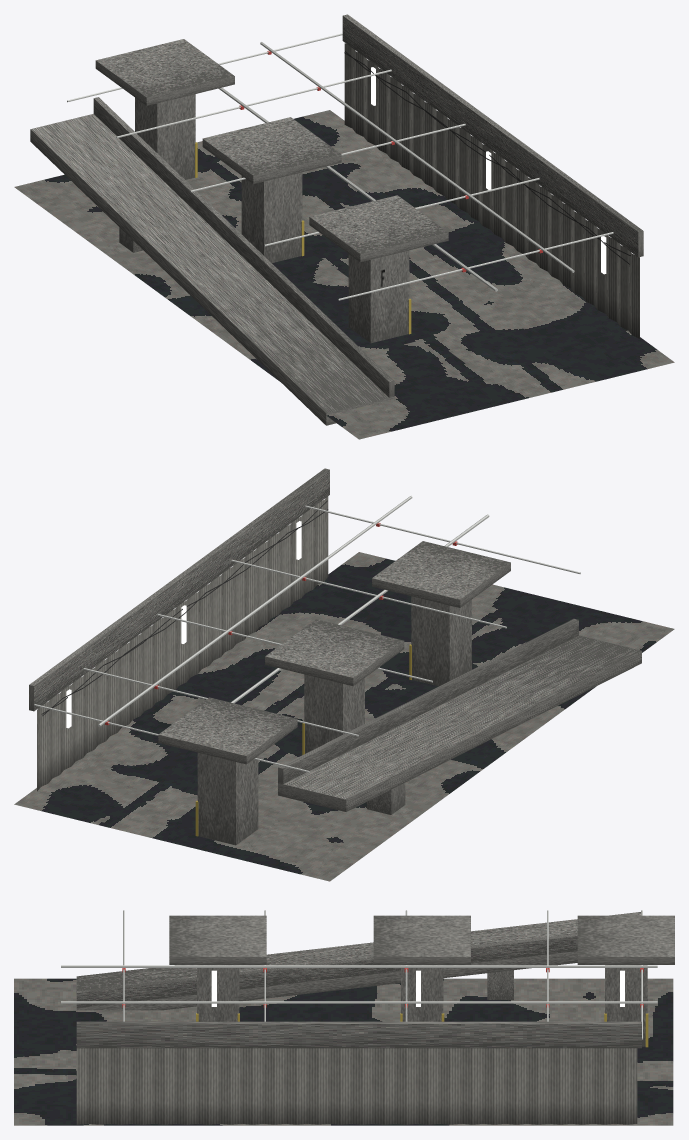
Rendered from aquila_ps2_wing.glb.
3 renders of one model, top to bottom at view 1: azimuth 30°, elevation 25°; view 2: azimuth 150°, elevation 25°; view 3: azimuth 270°, elevation 25°, orthographic. The views are drawn at different scales.
Parts seen in each view (by area): view 1: AquilaWetFloorOverlay, AquilaLeftRamp, AquilaCorrugatedWall, RightHeader, AquilaRampCurb, AquilaDropCap_1, AquilaDropCap_0, AquilaDropCap_2, AquilaPillar_0, AquilaPillar_1, AquilaPillar_2, Pipe_Main_B (+3 smaller); view 2: AquilaWetFloorOverlay, AquilaCorrugatedWall, AquilaLeftRamp, RightHeader, AquilaRampCurb, AquilaDropCap_1, AquilaDropCap_2, AquilaDropCap_0, AquilaPillar_2, AquilaPillar_0, AquilaPillar_1, Pipe_Main_B (+4 smaller); view 3: AquilaCorrugatedWall, AquilaWetFloorOverlay, RightHeader, AquilaLeftRamp, AquilaRampCurb, AquilaDropCap_0, AquilaDropCap_1, AquilaDropCap_2, AquilaPillar_0, AquilaPillar_2, AquilaPillar_1, Pipe_Main_A (+2 smaller).
Boxes of the visible parts, left/top/right/bottom form: AquilaWetFloorOverlay: left=14, top=110, right=674, bottom=439; AquilaLeftRamp: left=30, top=114, right=394, bottom=425; AquilaCorrugatedWall: left=344, top=43, right=639, bottom=338; RightHeader: left=342, top=14, right=643, bottom=257; AquilaRampCurb: left=93, top=97, right=394, bottom=397; AquilaDropCap_1: left=202, top=117, right=341, bottom=183; AquilaDropCap_0: left=309, top=195, right=448, bottom=262; AquilaDropCap_2: left=95, top=39, right=234, bottom=105; AquilaPillar_0: left=348, top=250, right=409, bottom=343; AquilaPillar_1: left=241, top=172, right=302, bottom=262; AquilaPillar_2: left=135, top=94, right=195, bottom=179; Pipe_Main_B: left=260, top=42, right=574, bottom=272; AquilaWetFloorOverlay: left=14, top=552, right=674, bottom=881; AquilaCorrugatedWall: left=37, top=496, right=328, bottom=791; AquilaLeftRamp: left=278, top=635, right=641, bottom=811; RightHeader: left=29, top=468, right=329, bottom=711; AquilaRampCurb: left=278, top=618, right=578, bottom=783; AquilaDropCap_1: left=265, top=619, right=404, bottom=686; AquilaDropCap_2: left=158, top=697, right=297, bottom=764; AquilaDropCap_0: left=372, top=541, right=510, bottom=607; AquilaPillar_2: left=197, top=752, right=258, bottom=845; AquilaPillar_0: left=411, top=596, right=471, bottom=686; AquilaPillar_1: left=304, top=674, right=364, bottom=753; Pipe_Main_B: left=98, top=496, right=412, bottom=726; AquilaCorrugatedWall: left=76, top=1048, right=637, bottom=1124; AquilaWetFloorOverlay: left=14, top=978, right=673, bottom=1125; RightHeader: left=76, top=1021, right=641, bottom=1048; AquilaLeftRamp: left=76, top=912, right=640, bottom=1010; AquilaRampCurb: left=76, top=934, right=577, bottom=1007; AquilaDropCap_0: left=169, top=915, right=266, bottom=964; AquilaDropCap_1: left=373, top=915, right=470, bottom=964; AquilaDropCap_2: left=577, top=915, right=674, bottom=964; AquilaPillar_0: left=197, top=965, right=239, bottom=1021; AquilaPillar_2: left=605, top=965, right=647, bottom=1046; AquilaPillar_1: left=401, top=965, right=443, bottom=1021; Pipe_Main_A: left=61, top=965, right=657, bottom=967.
Size of the model in its own units: 11.15 by 3.95 by 21.05.
9 materials, 4 textured.
